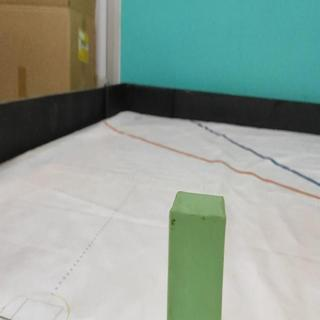greenbox: (167, 189, 228, 320)
